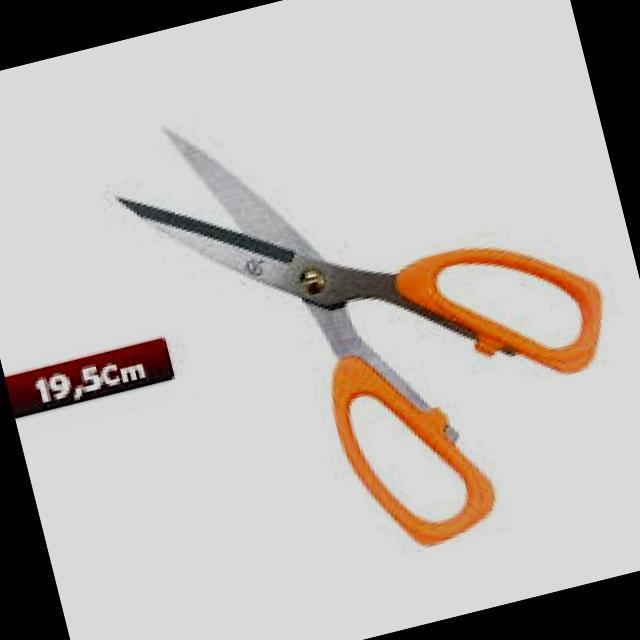Scissors: (92, 15, 640, 618)
